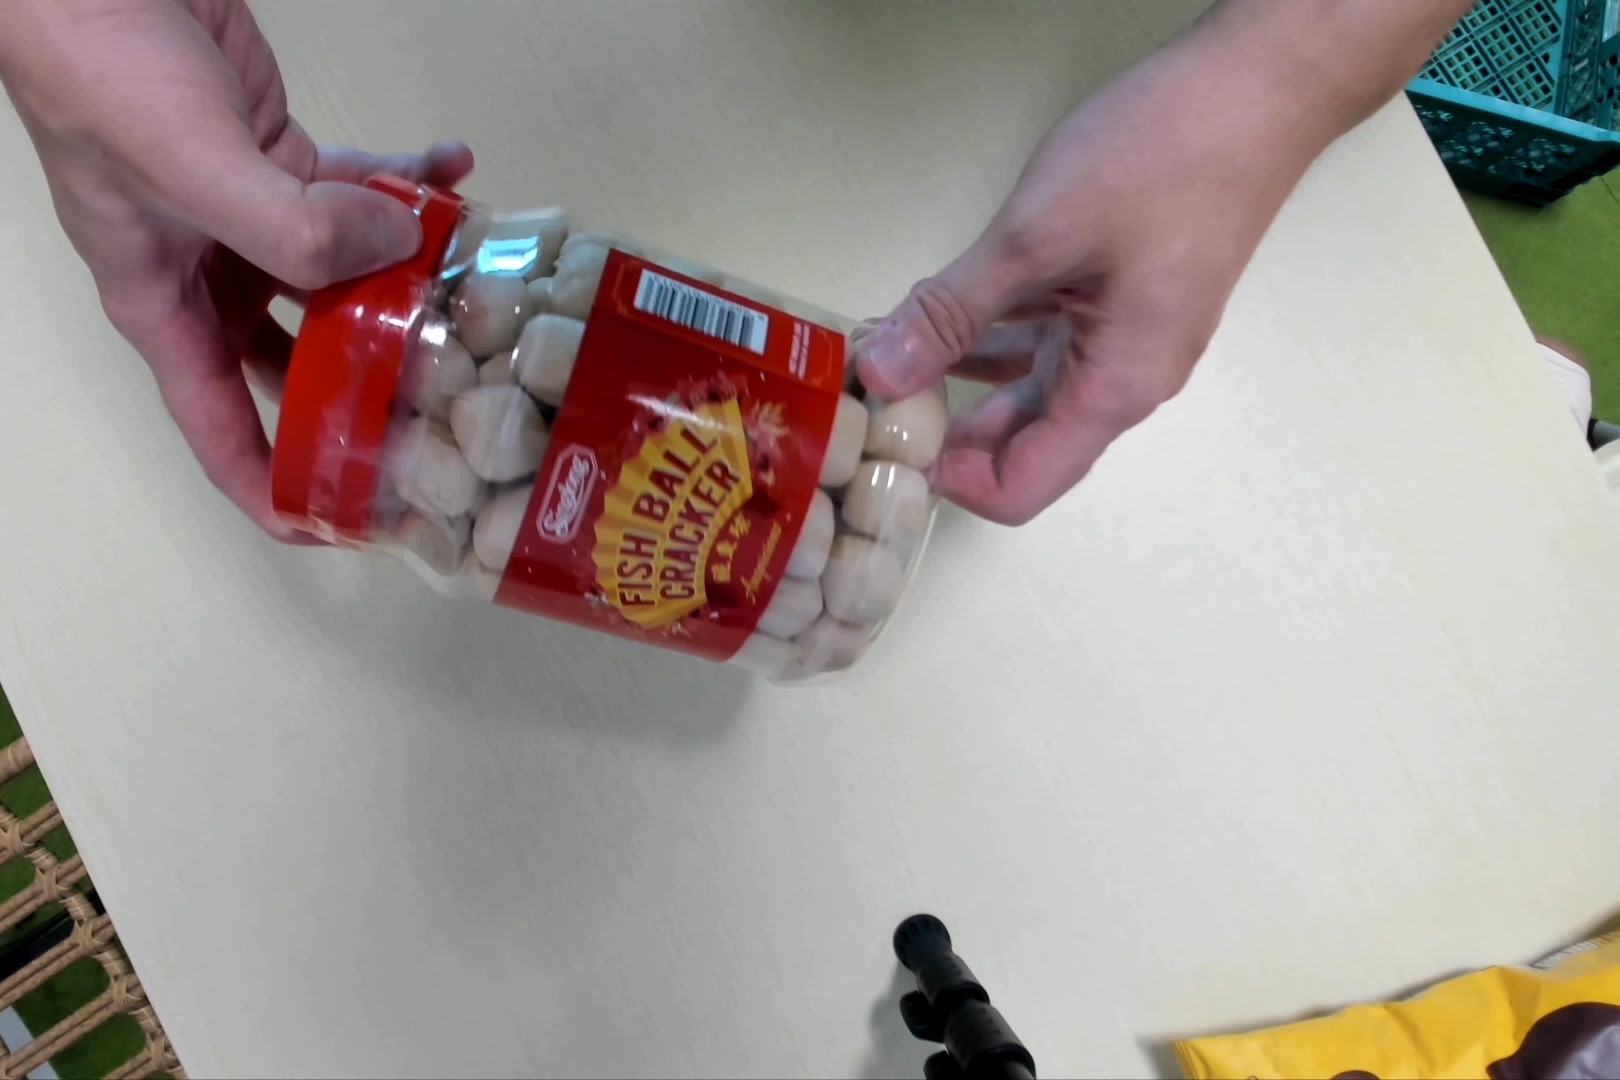PotatoChipsKeropok_100-199g_NonHalal_NonHealthy: (269, 176, 941, 671)
